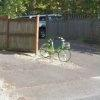Bicycle: (40, 28, 76, 67)
